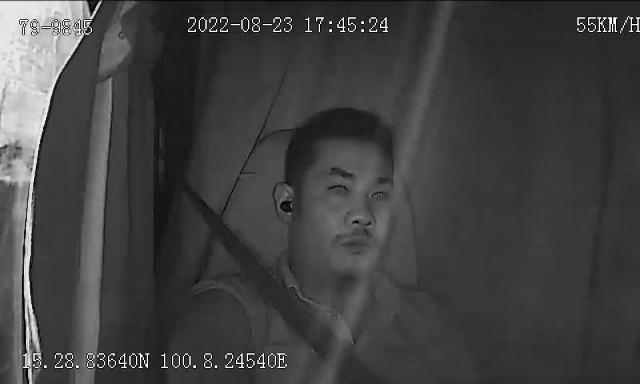SafeDriving: (268, 183, 304, 224), (363, 178, 395, 207), (322, 171, 354, 200)
Seatbelt: (174, 174, 358, 384)
